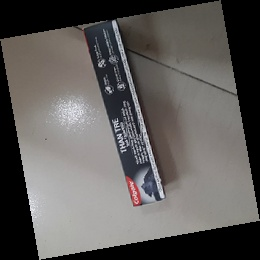Colgate Than: (82, 18, 168, 210)
